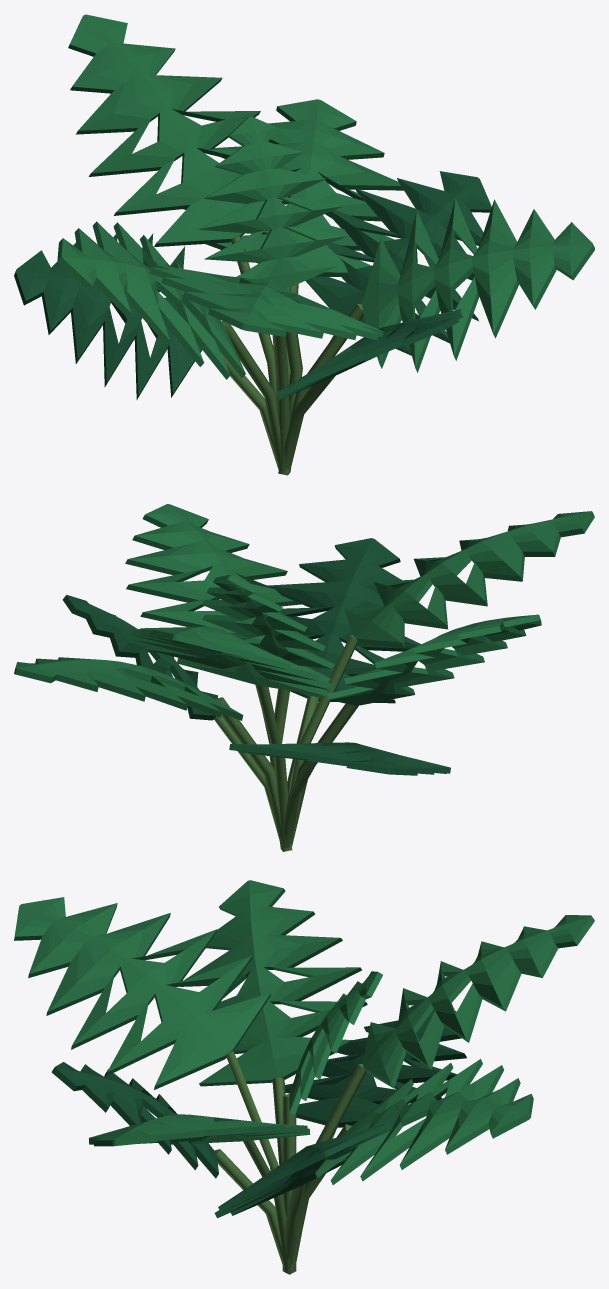
Rendered from bush-monstera.glb.
3 views of the same model, one above another, from view 1: azimuth 30°, elevation 25°; view 2: azimuth 150°, elevation 25°; view 3: azimuth 270°, elevation 25° (orthographic). The views are drawn at different scales.
Parts seen in each view (by area): view 1: Big split monstera leaf 3, Big split monstera leaf 8, Young split monstera leaf, Big split monstera leaf 2, Big split monstera leaf 5, Big split monstera leaf 1, Big split monstera leaf 4, Big split monstera leaf 6, Big split monstera leaf 7, Curved monstera stem.004, Curved monstera stem.005, Curved monstera stem.006 (+4 smaller); view 2: Big split monstera leaf 6, Big split monstera leaf 8, Big split monstera leaf 7, Big split monstera leaf 5, Big split monstera leaf 3, Big split monstera leaf 2, Young split monstera leaf, Big split monstera leaf 4, Big split monstera leaf 1, Curved monstera stem.002, Curved monstera stem.001, Curved monstera stem.005 (+5 smaller); view 3: Big split monstera leaf 6, Big split monstera leaf 5, Big split monstera leaf 3, Big split monstera leaf 2, Big split monstera leaf 4, Big split monstera leaf 7, Big split monstera leaf 8, Big split monstera leaf 1, Young split monstera leaf, Curved monstera stem.006, Curved monstera stem.002, Curved monstera stem.005 (+5 smaller).
Boxes of the visible parts, x1,y1,x2,y2 form: Big split monstera leaf 3: (68,14,290,246); Big split monstera leaf 8: (362,198,594,372); Young split monstera leaf: (198,116,347,288); Big split monstera leaf 2: (183,99,403,276); Big split monstera leaf 5: (57,221,245,379); Big split monstera leaf 1: (305,171,491,355); Big split monstera leaf 4: (14,233,202,399); Big split monstera leaf 6: (149,264,383,340); Big split monstera leaf 7: (277,309,462,399); Curved monstera stem.004: (221,321,281,470); Curved monstera stem.005: (272,335,289,471); Curved monstera stem.006: (280,375,335,469); Big split monstera leaf 6: (344,511,594,647); Big split monstera leaf 8: (125,504,301,639); Big split monstera leaf 7: (268,538,420,703); Big split monstera leaf 5: (326,614,541,705); Big split monstera leaf 3: (131,626,333,696); Big split monstera leaf 2: (14,657,243,720); Young split monstera leaf: (202,574,334,682); Big split monstera leaf 4: (229,742,450,775); Big split monstera leaf 1: (62,595,217,720); Curved monstera stem.002: (255,684,288,847); Curved monstera stem.001: (215,697,282,846); Curved monstera stem.005: (290,635,357,792); Big split monstera leaf 6: (14,897,270,1089); Big split monstera leaf 5: (180,880,367,1086); Big split monstera leaf 3: (363,915,594,1088); Big split monstera leaf 2: (315,1059,533,1184); Big split monstera leaf 4: (285,1009,466,1127); Big split monstera leaf 7: (52,1062,218,1178); Big split monstera leaf 8: (89,1114,309,1146); Big split monstera leaf 1: (214,1122,394,1218); Young split monstera leaf: (289,971,382,1114); Curved monstera stem.006: (214,1149,284,1265); Curved monstera stem.002: (296,1064,366,1261); Curved monstera stem.005: (226,1050,282,1194).
Bounding box in the file's own units: 1.51 × 1.09 × 1.71.
